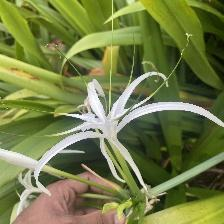spider lily: (68, 74, 195, 167), (1, 144, 53, 224)
